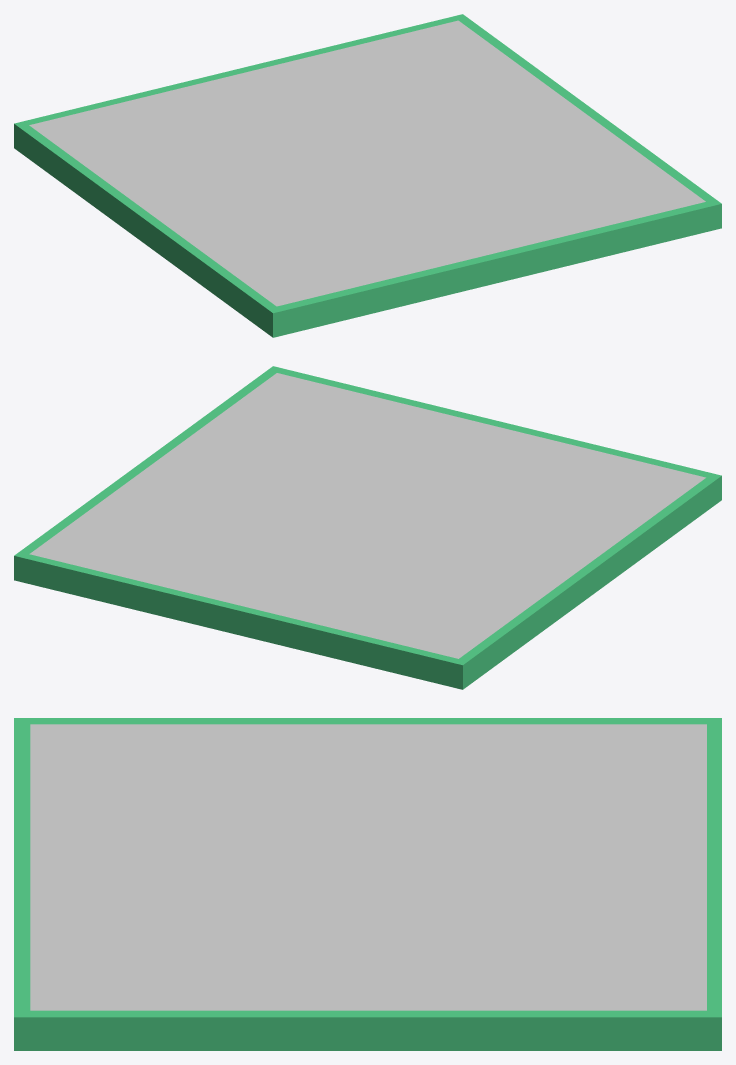
The model's file is glass.dae.
3 renders of one model, top to bottom at view 1: azimuth 30°, elevation 25°; view 2: azimuth 150°, elevation 25°; view 3: azimuth 270°, elevation 25°, orthographic. The views are drawn at different scales.
Visible parts, largest first — view 1: Vidro; view 2: Vidro; view 3: Vidro.
Boxes of the visible parts, x1,y1,x2,y2 form: Vidro: [14, 14, 721, 337]; Vidro: [14, 366, 721, 689]; Vidro: [14, 718, 721, 1050].
Size of the model in its own units: 1.4 by 1.4 by 0.0733.
